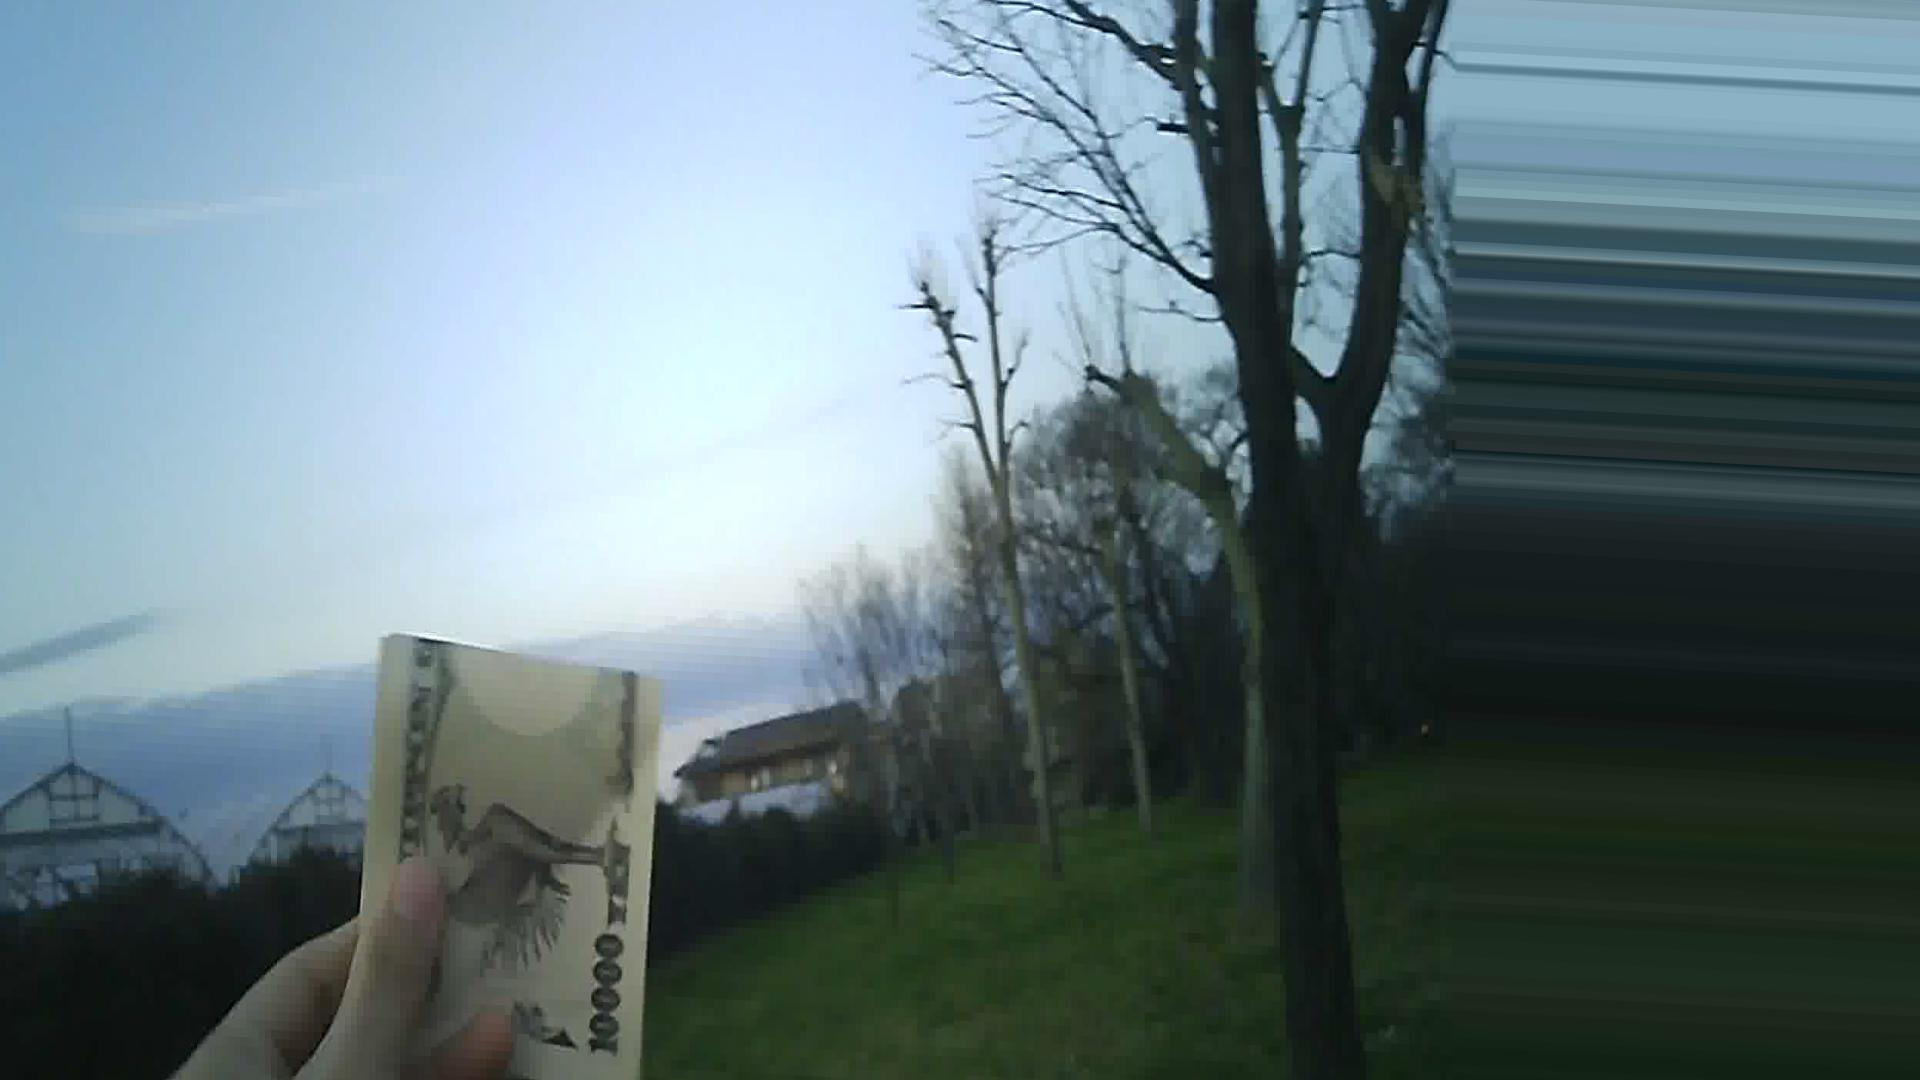10,000 Yen: (297, 625, 653, 1062)
